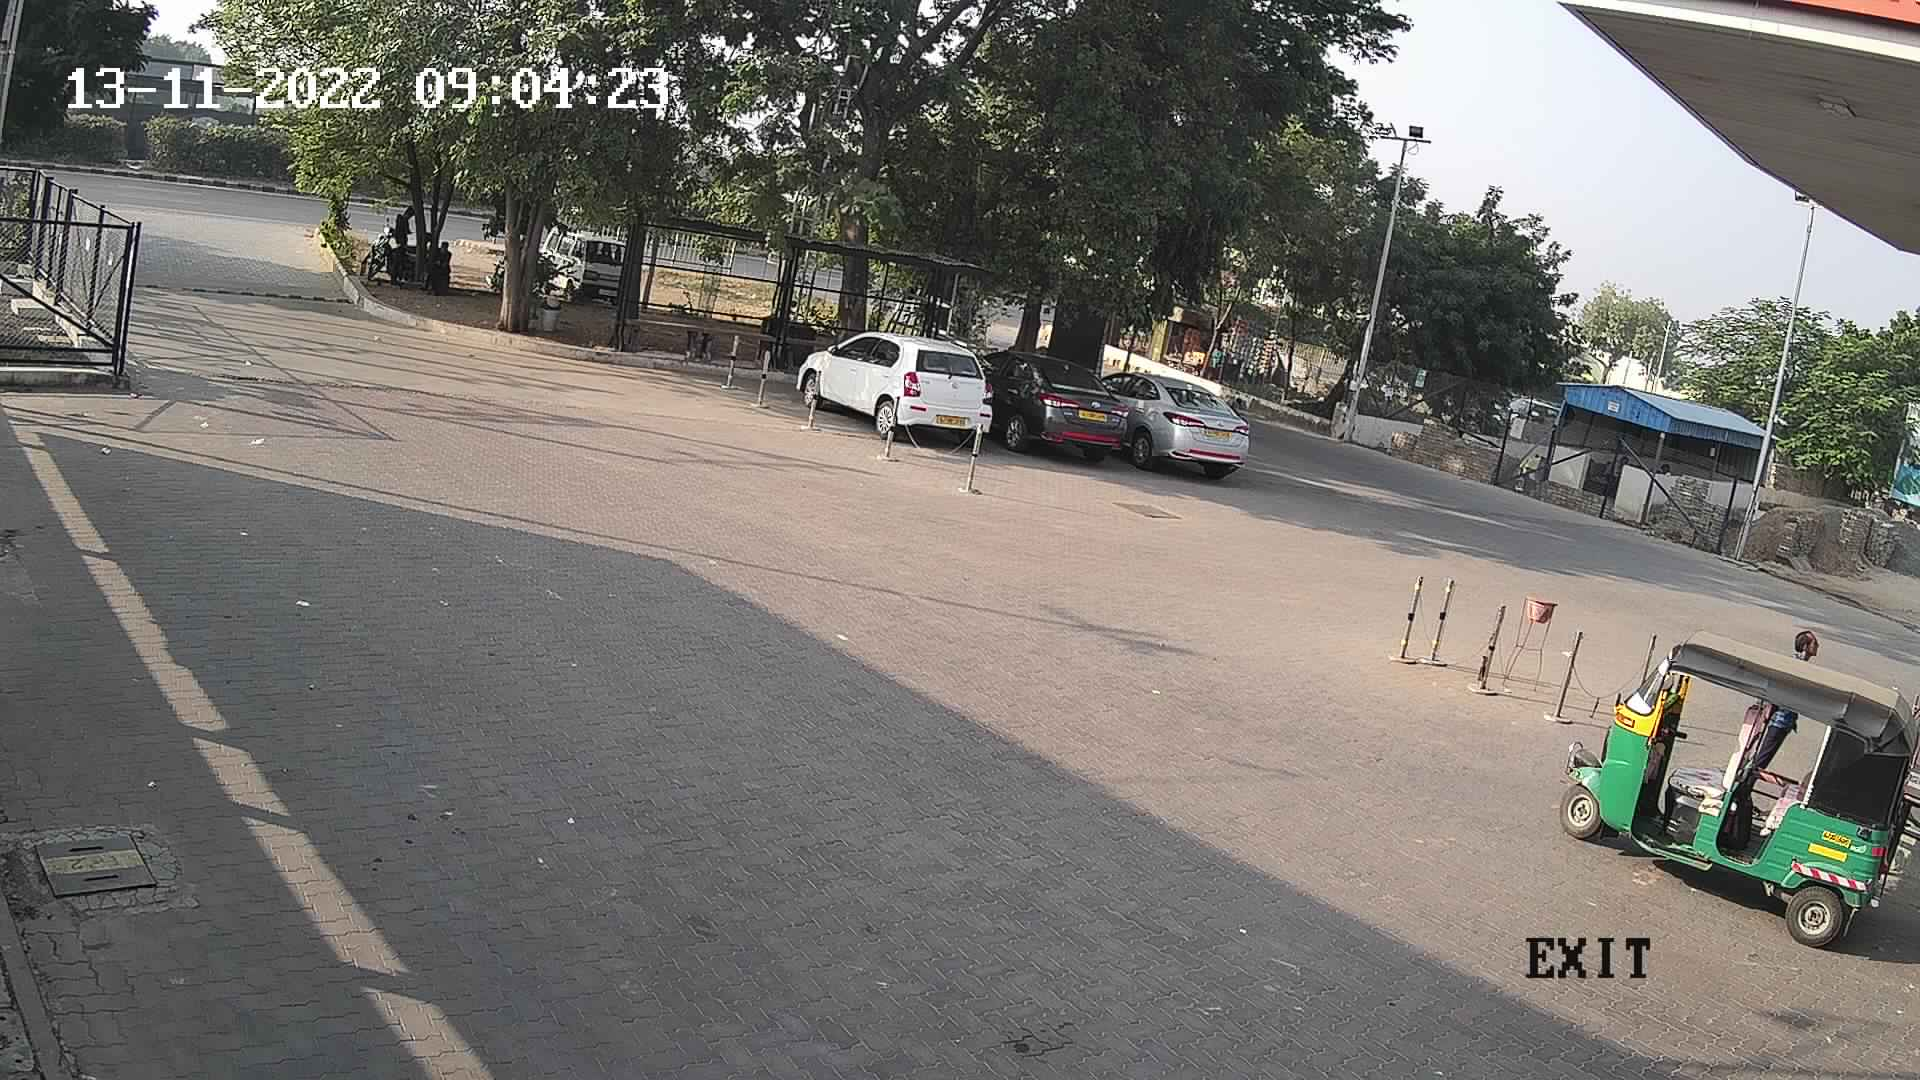Auto: (1556, 630, 1919, 944)
Bike: (353, 210, 430, 293)
Car: (790, 316, 1007, 450), (1071, 344, 1262, 480), (971, 339, 1142, 467), (531, 208, 644, 316)
